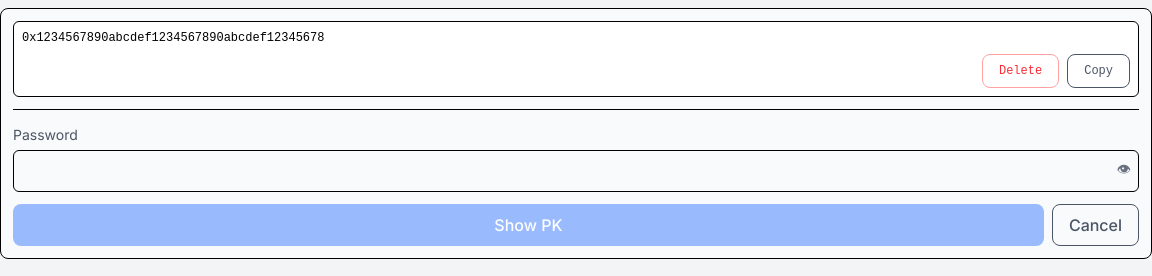
Test: WalletActionsPanel › shows private key with correct password
Type "StrongPass123!" into the password field labelled "Password 👁".
click(576, 171); type("StrongPass123!")  # box [13, 150, 1139, 192]
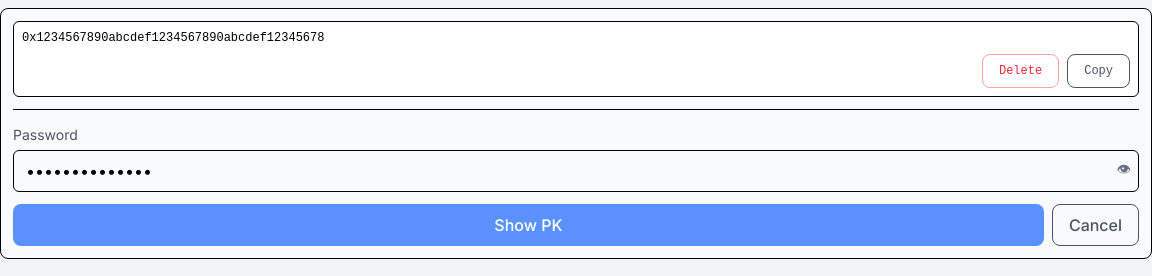
Click the button "Show PK".
click(528, 225)  # box [13, 204, 1044, 246]
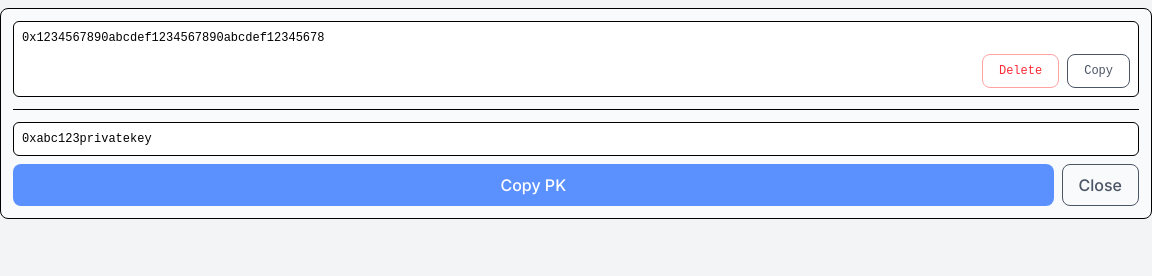
Expected: the text "0xabc123privatekey" is shown, [13, 122, 1139, 156]
